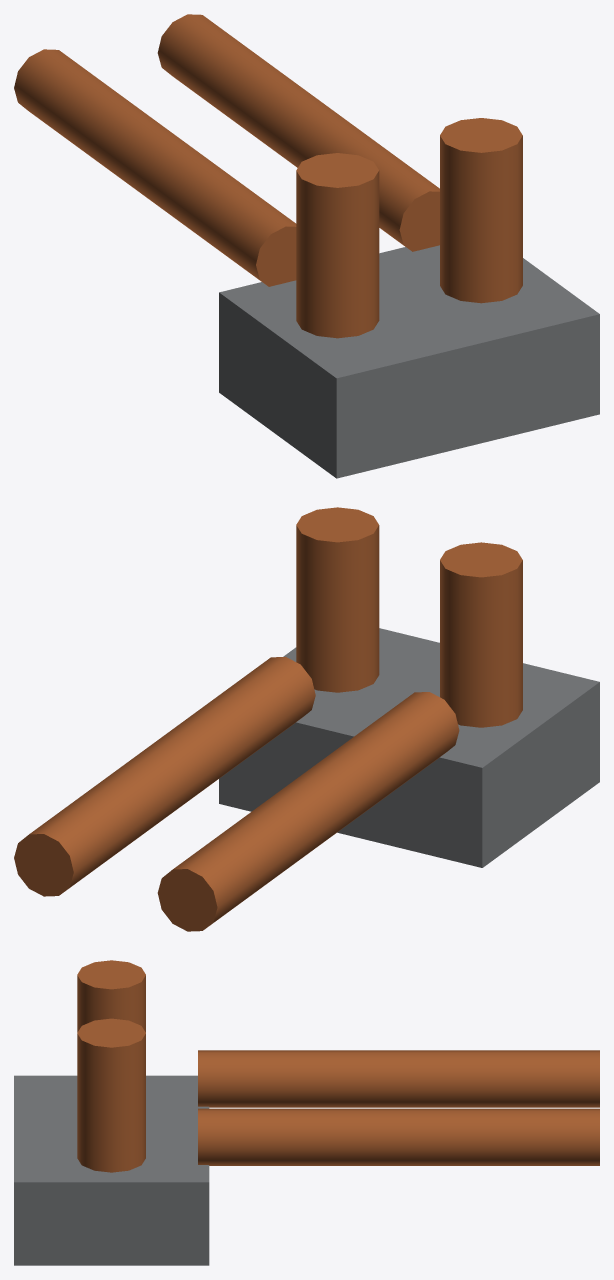
The model's file is th_emergency_coolant.obj.
3 renders of one model, top to bottom at view 1: azimuth 30°, elevation 25°; view 2: azimuth 150°, elevation 25°; view 3: azimuth 270°, elevation 25°, orthographic. The views are drawn at different scales.
Visible parts, largest first — view 1: th_emergency_coolant; view 2: th_emergency_coolant; view 3: th_emergency_coolant.
Boxes of the visible parts, x1,y1,x2,y2 form: th_emergency_coolant: (14,14,599,478); th_emergency_coolant: (14,507,599,931); th_emergency_coolant: (14,960,599,1265).
Size of the model in its own units: 0.2691 by 0.2447 by 0.6239.
